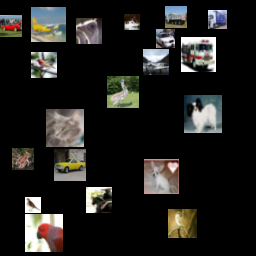airplane: (31, 7, 66, 42), (143, 49, 169, 75)
automobile: (54, 149, 86, 181), (0, 15, 22, 37), (156, 29, 175, 48)
bird: (25, 214, 63, 252), (107, 76, 139, 108), (168, 209, 197, 238), (31, 52, 57, 78), (76, 18, 102, 44), (25, 197, 41, 213)
cat: (46, 109, 84, 147)
dog: (184, 95, 222, 133), (144, 159, 179, 194)
frog: (12, 148, 34, 170)
ship: (124, 14, 140, 30)
